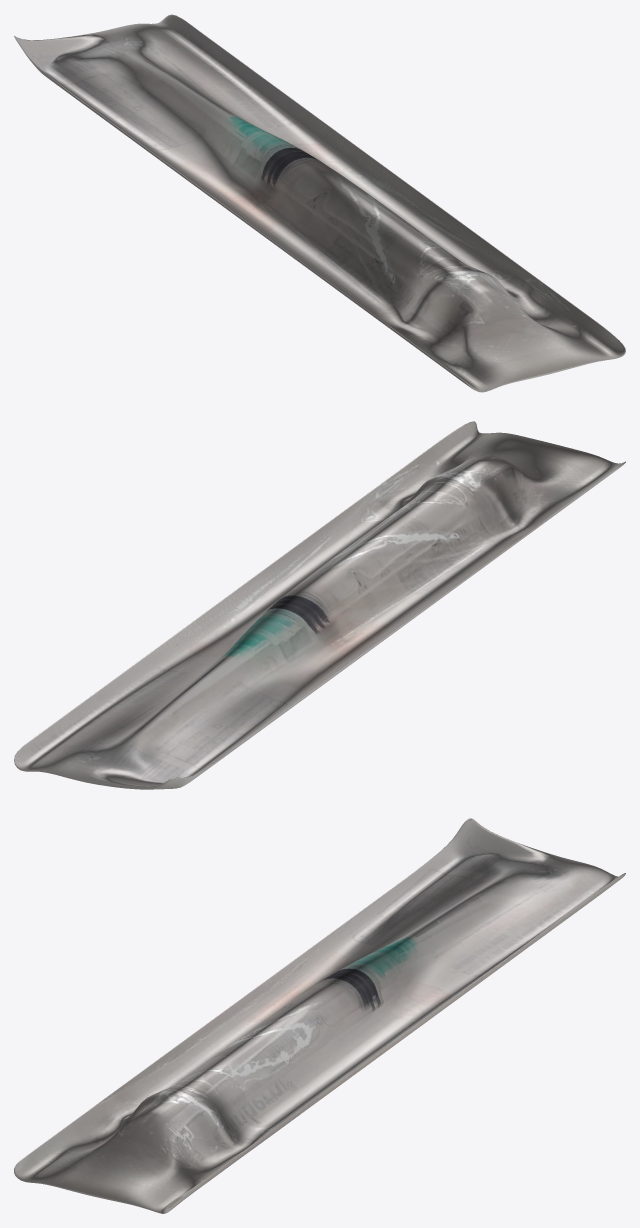
The model's file is jeringa.obj.
3 views of the same model, one above another, from view 1: azimuth 30°, elevation 25°; view 2: azimuth 150°, elevation 25°; view 3: azimuth 330°, elevation 25° (orthographic).
Parts seen in each view (by area): view 1: pCube002; view 2: pCube002; view 3: pCube002.
Part boxes in pixels (x1,y1,x2,y2): pCube002: (14,14,625,392); pCube002: (14,421,625,789); pCube002: (14,818,625,1213).
Bounding box in the file's own units: 12.94 × 3.53 × 64.91.
